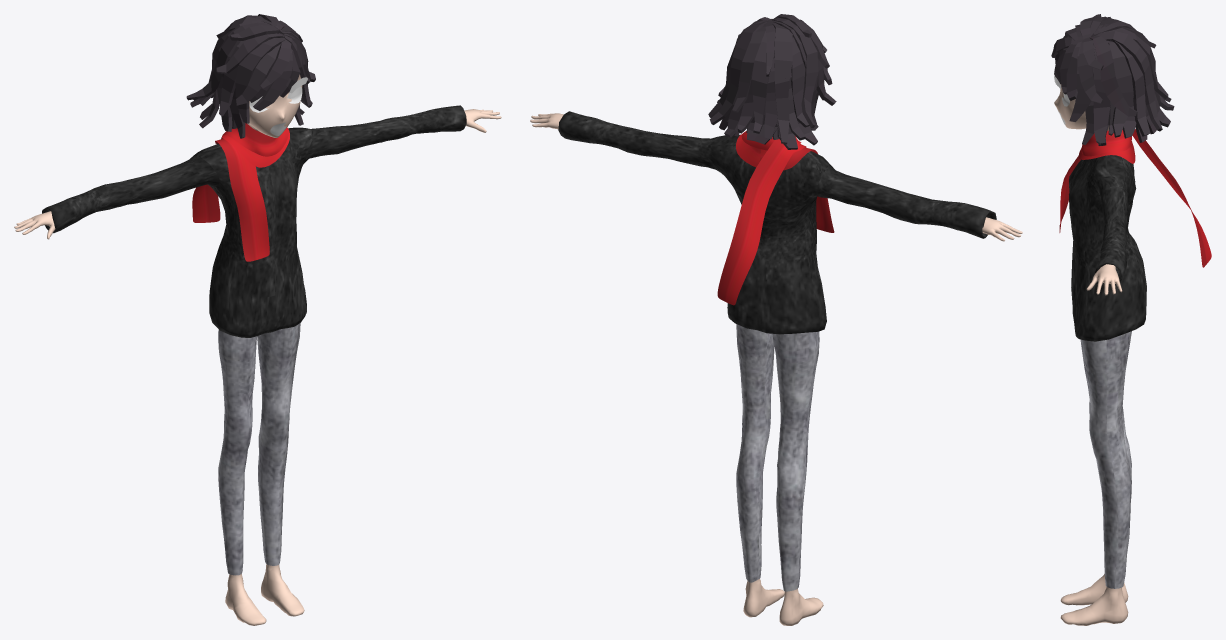
File: GIRL fbx.glb
3 views of the same model, side by side, from view 1: azimuth 30°, elevation 25°; view 2: azimuth 150°, elevation 25°; view 3: azimuth 270°, elevation 25° (orthographic).
Visible parts, largest first — view 1: Top, bot, hair, scarf, body, Head; view 2: Top, bot, hair, scarf, body; view 3: Top, hair, bot, body, scarf, Head.
Boxes of the visible parts, x1,y1,x2,y2 form: Top: [42, 105, 466, 337]; bot: [218, 323, 300, 575]; hair: [186, 14, 315, 138]; scarf: [192, 123, 289, 261]; body: [14, 109, 501, 625]; Head: [249, 74, 302, 137]; Top: [558, 111, 996, 334]; bot: [736, 324, 819, 591]; hair: [708, 14, 836, 149]; scarf: [717, 131, 834, 305]; body: [530, 113, 1022, 625]; Top: [1069, 155, 1146, 341]; hair: [1051, 14, 1174, 145]; bot: [1080, 331, 1131, 588]; body: [1060, 125, 1128, 625]; scarf: [1059, 129, 1211, 267]; Head: [1054, 84, 1086, 129].
Bounding box in the file's own units: 1.39 × 1.61 × 0.3962.
7 materials, 6 textured.
